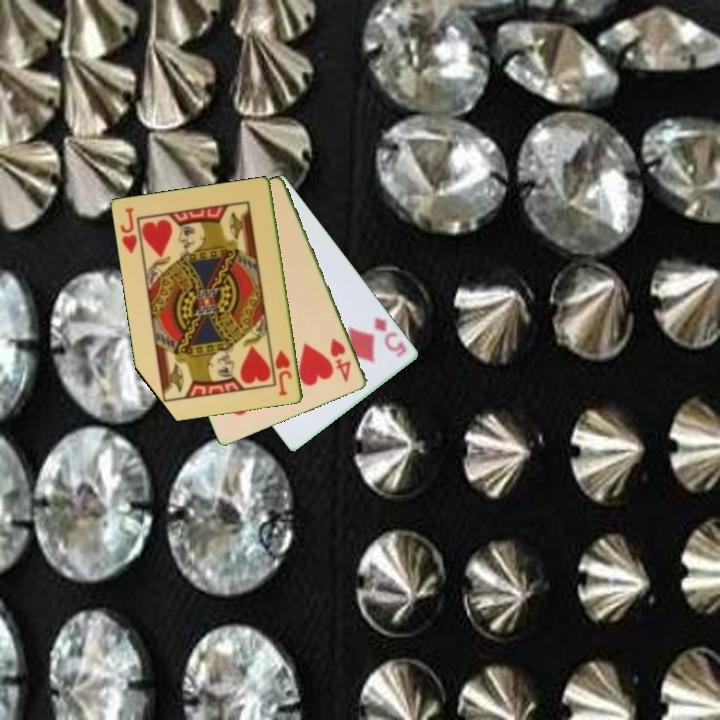4h: (327, 334, 354, 385)
5d: (371, 313, 410, 360)
Jh: (117, 204, 140, 257), (272, 347, 295, 399)
